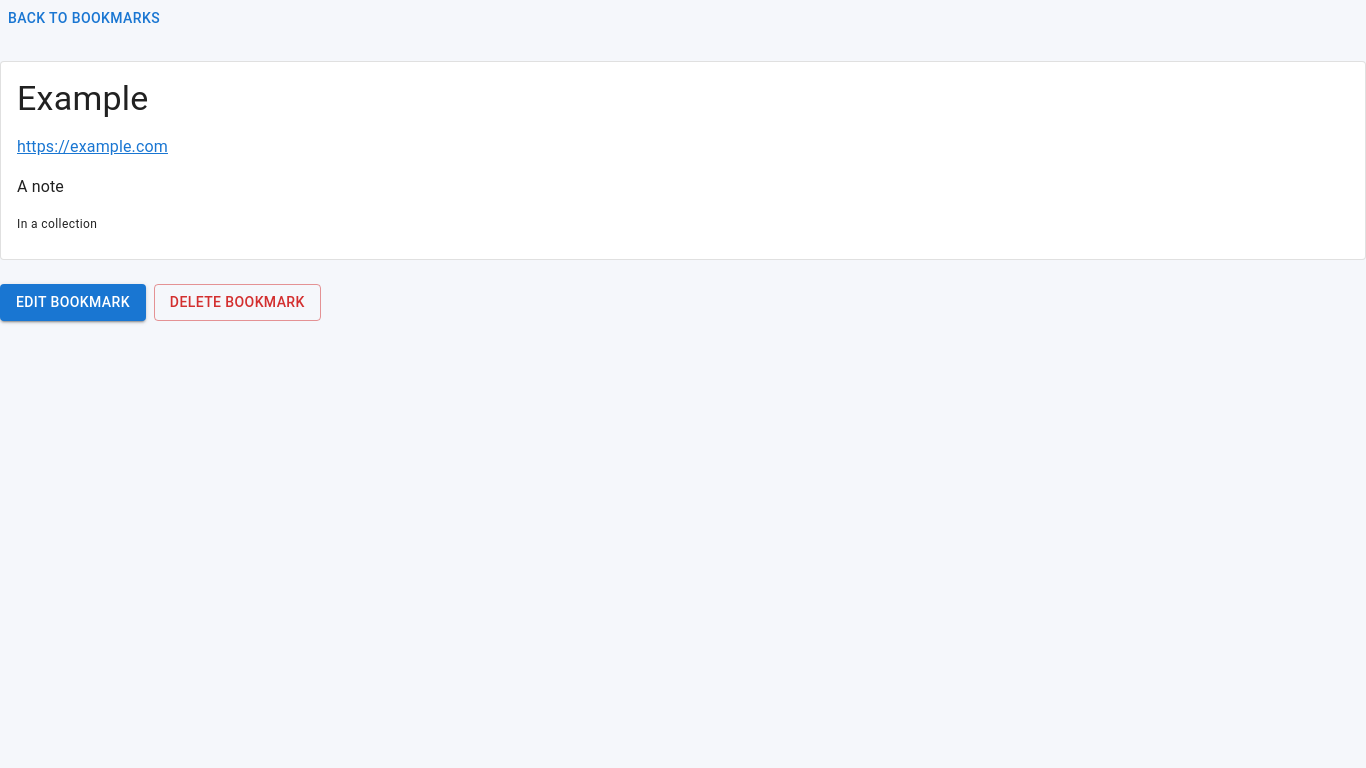
it: detail edit flows › opens bookmark edit from the bookmark detail page
Click the button "Edit bookmark".
click(73, 303)  # box [0,284,146,321]
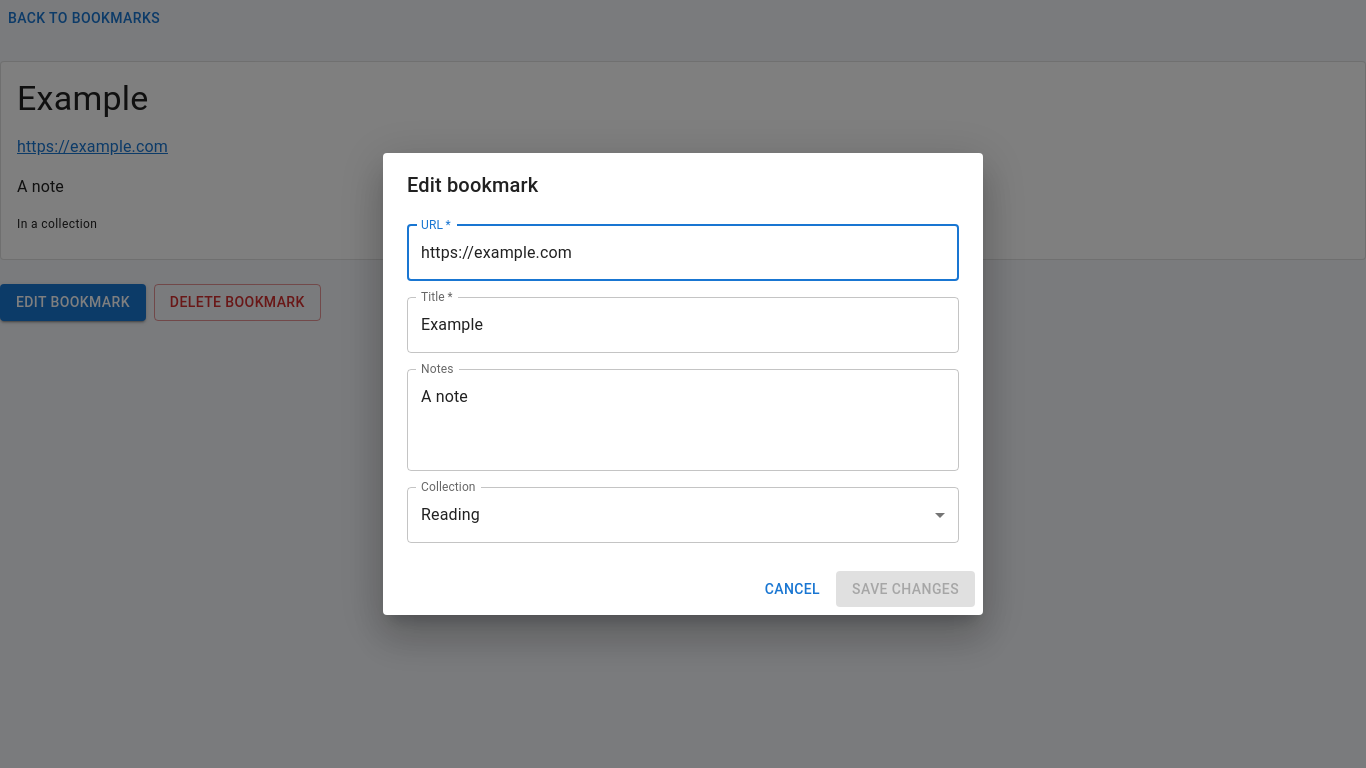
Now the dialog shows "Edit bookmark", box [407,173,538,197]
Now the field labelled "Title *" holds "Example", box [407,297,959,353]
